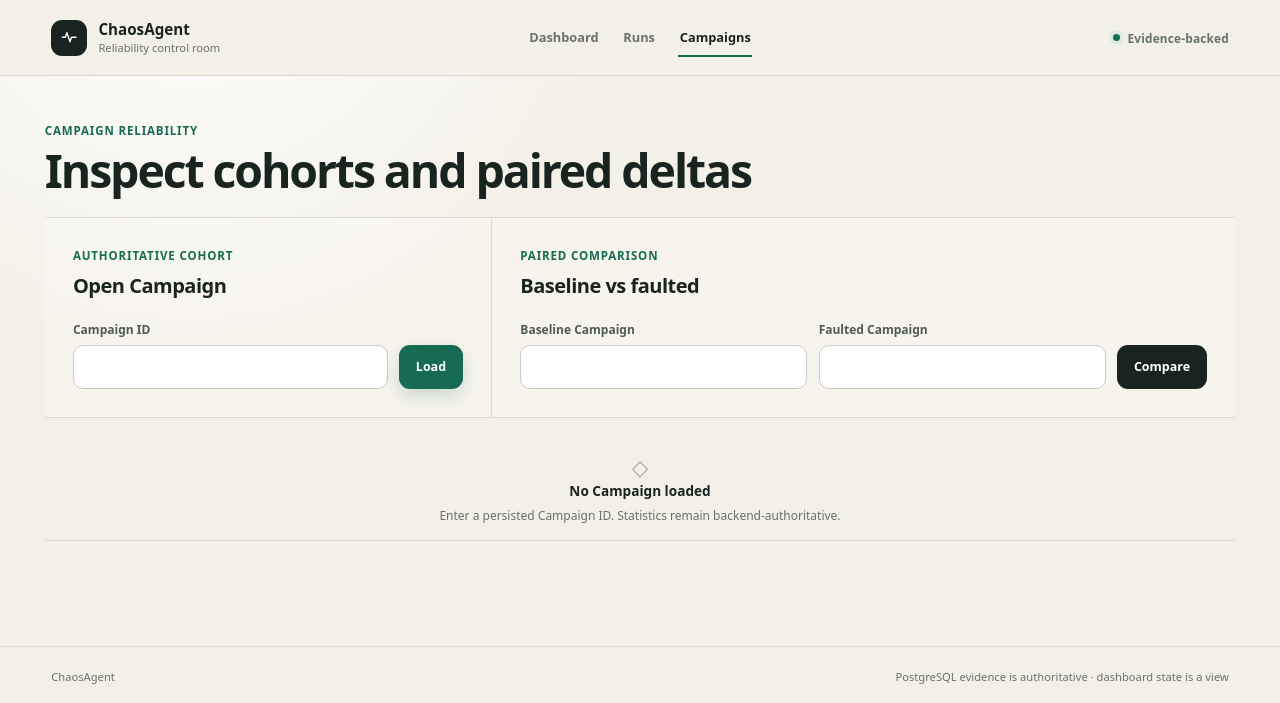
Test: Run detail live integration › loads exact Campaign membership and backend-produced statistics
Type "campaign-1" into the field labelled "Campaign ID" at [230, 367], box [73, 345, 388, 389]
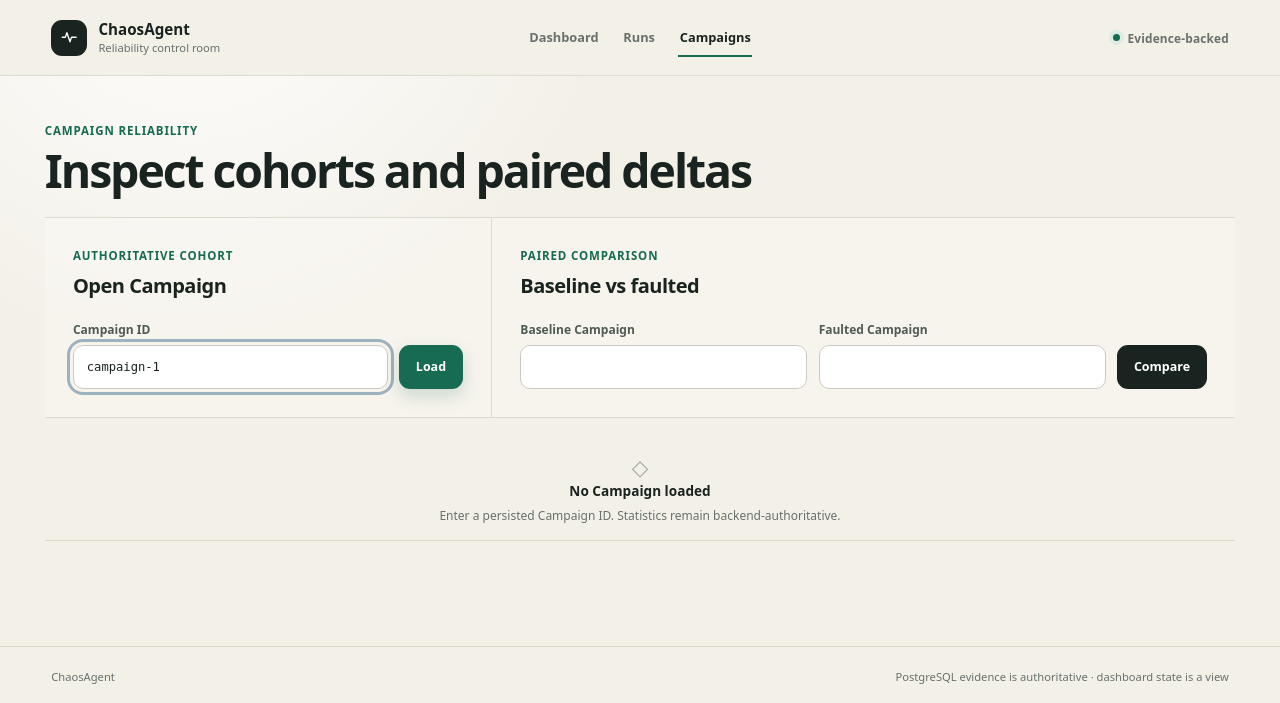
Click the button "Load" at [431, 367], box [399, 345, 463, 389]
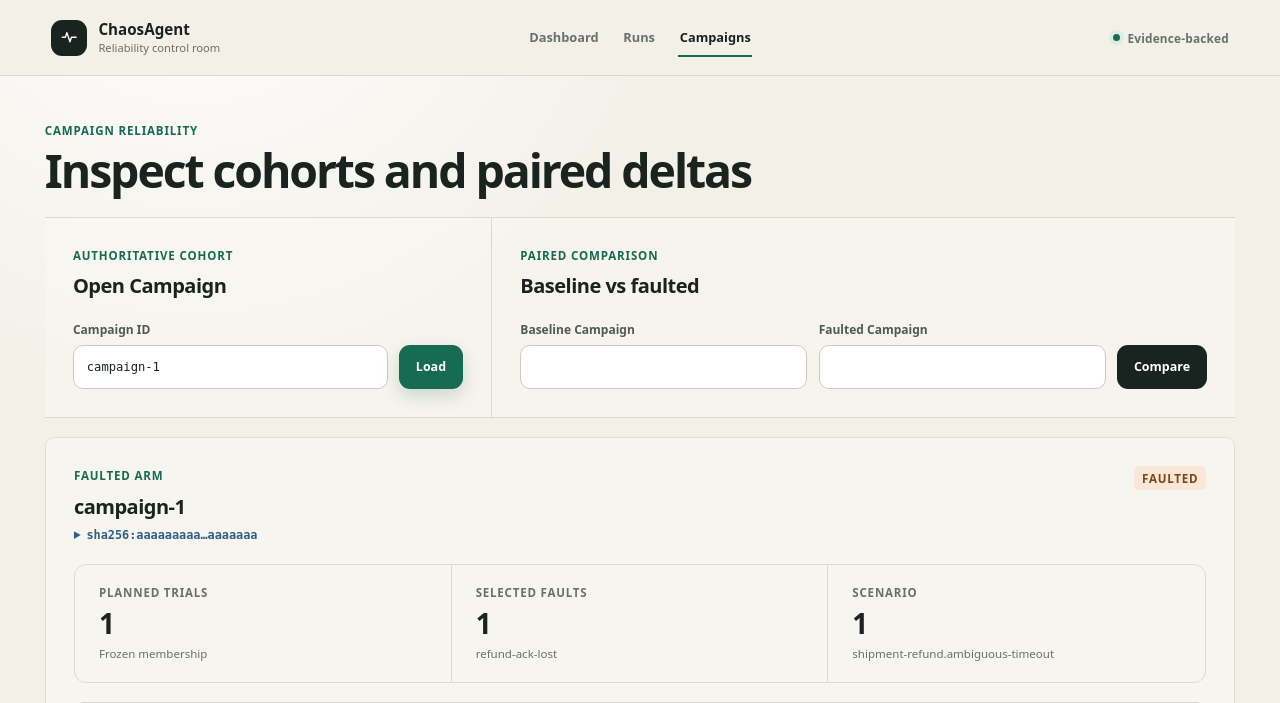
expect the text "1" below "Planned trials" is shown: met, box [99, 604, 114, 642]
